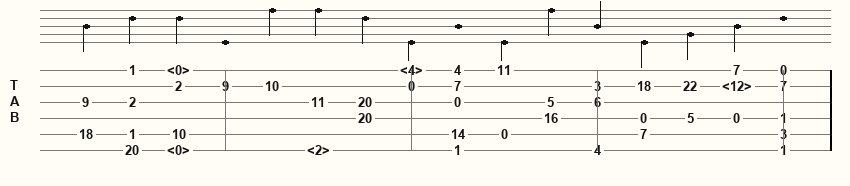0: (408, 79, 419, 93), (454, 95, 465, 109), (501, 127, 512, 141), (640, 111, 651, 125), (733, 111, 744, 125), (780, 63, 791, 77)
1: (129, 127, 140, 141), (129, 63, 140, 77), (454, 143, 465, 157), (780, 143, 791, 157), (780, 111, 791, 125)
10: (172, 127, 190, 141), (265, 79, 283, 93)
11: (311, 95, 329, 109), (497, 63, 515, 77)
14: (451, 127, 469, 141)
16: (544, 111, 562, 125)
18: (79, 127, 97, 141), (637, 79, 655, 93)
2: (129, 95, 140, 109), (175, 79, 186, 93)
20: (125, 143, 143, 157), (358, 111, 376, 125), (358, 95, 376, 109)
22: (683, 79, 701, 93)
3: (594, 79, 605, 93), (780, 127, 791, 141)
4: (454, 63, 465, 77), (594, 143, 605, 157)
5: (547, 95, 558, 109), (687, 111, 698, 125)
6: (594, 95, 605, 109)
7: (454, 79, 465, 93), (640, 127, 651, 141), (733, 63, 744, 77), (780, 79, 791, 93)
9: (82, 95, 93, 109), (222, 79, 233, 93)
harmonic: (722, 79, 756, 93), (167, 143, 194, 157), (167, 63, 194, 77), (307, 143, 334, 157), (400, 63, 427, 77)
